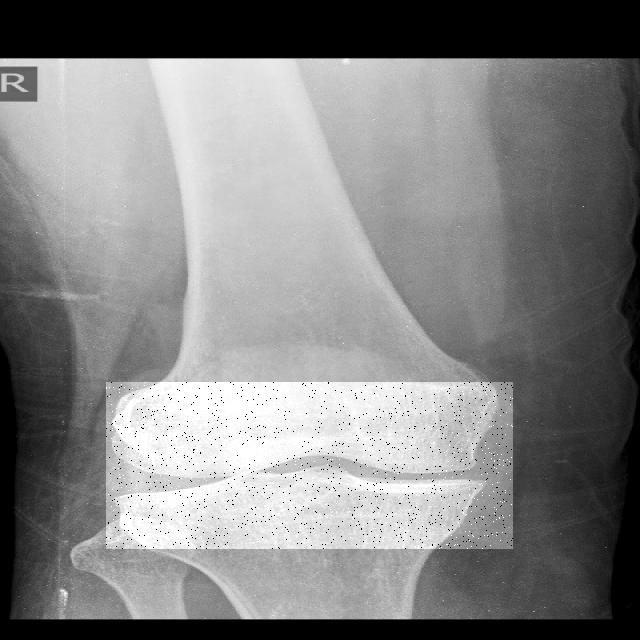normal: (106, 382, 513, 549)
